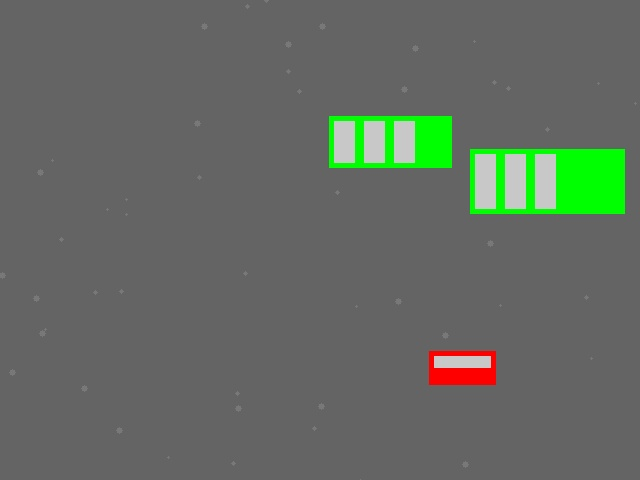bus: (470, 149, 624, 213), (329, 116, 451, 167)
car: (429, 351, 495, 384)
